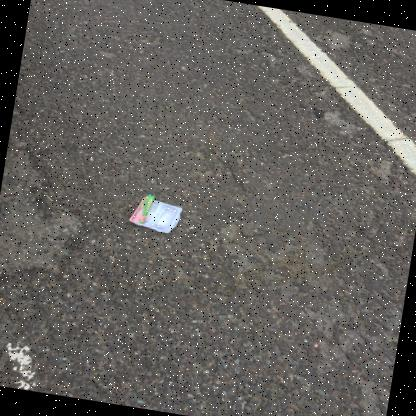Disposable food container: (129, 197, 182, 233)
Plastic film: (129, 194, 155, 223)
